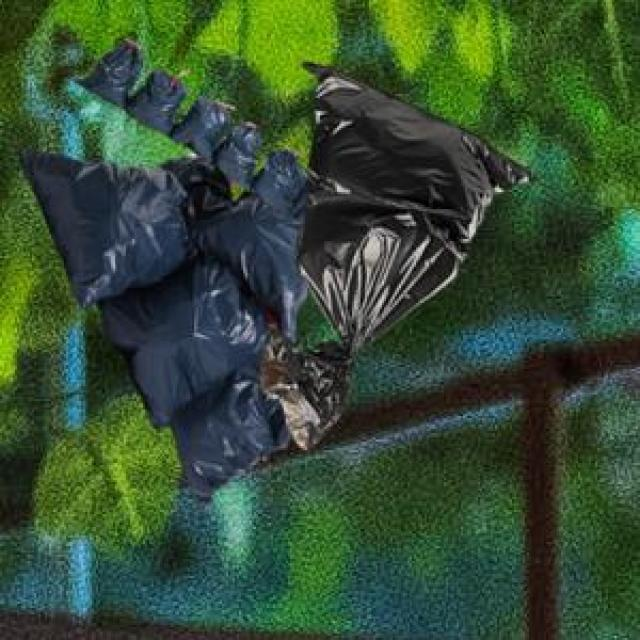Trashbag: (304, 72, 505, 338), (19, 148, 177, 307), (122, 267, 258, 416), (173, 395, 287, 509), (83, 34, 145, 106), (135, 68, 190, 130), (260, 145, 312, 207), (183, 95, 233, 156), (224, 126, 265, 183)
